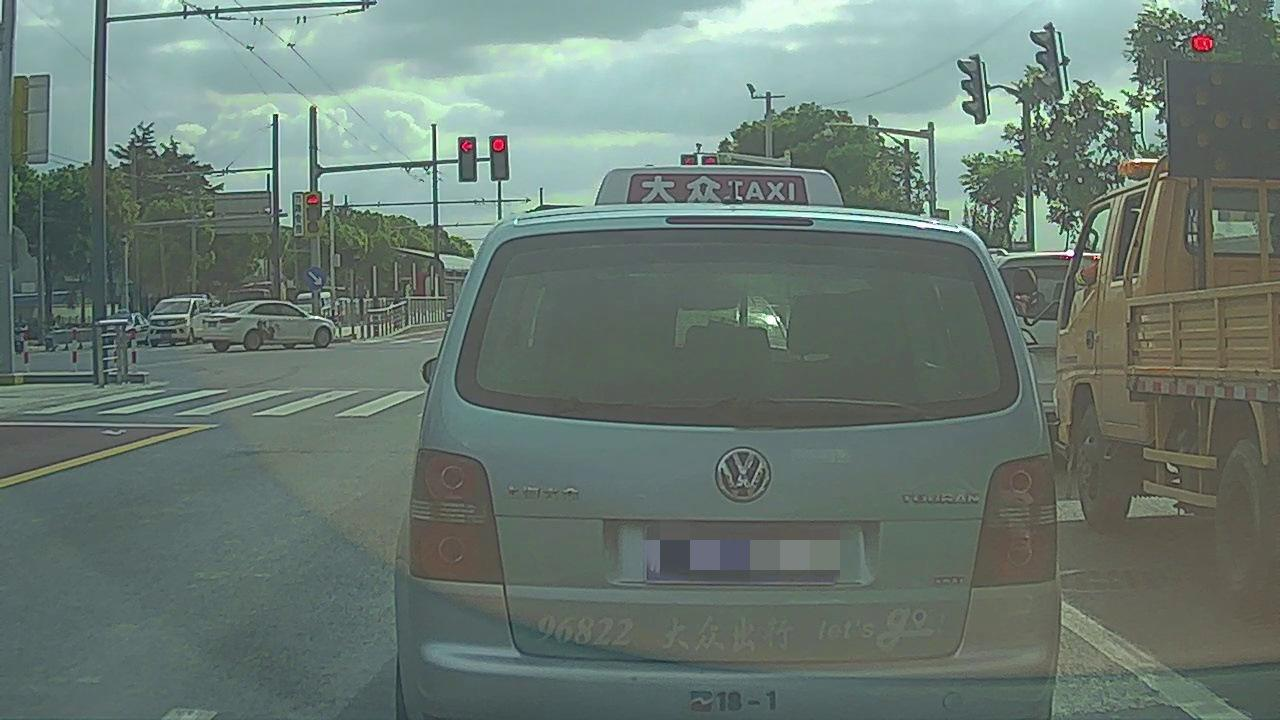traffic_light: (490, 135, 509, 181), (460, 137, 477, 184)
